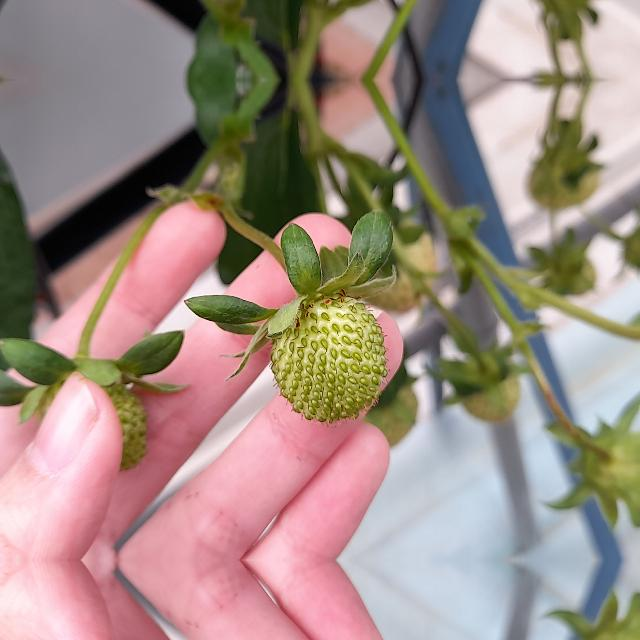Health_25: (270, 292, 388, 422)
